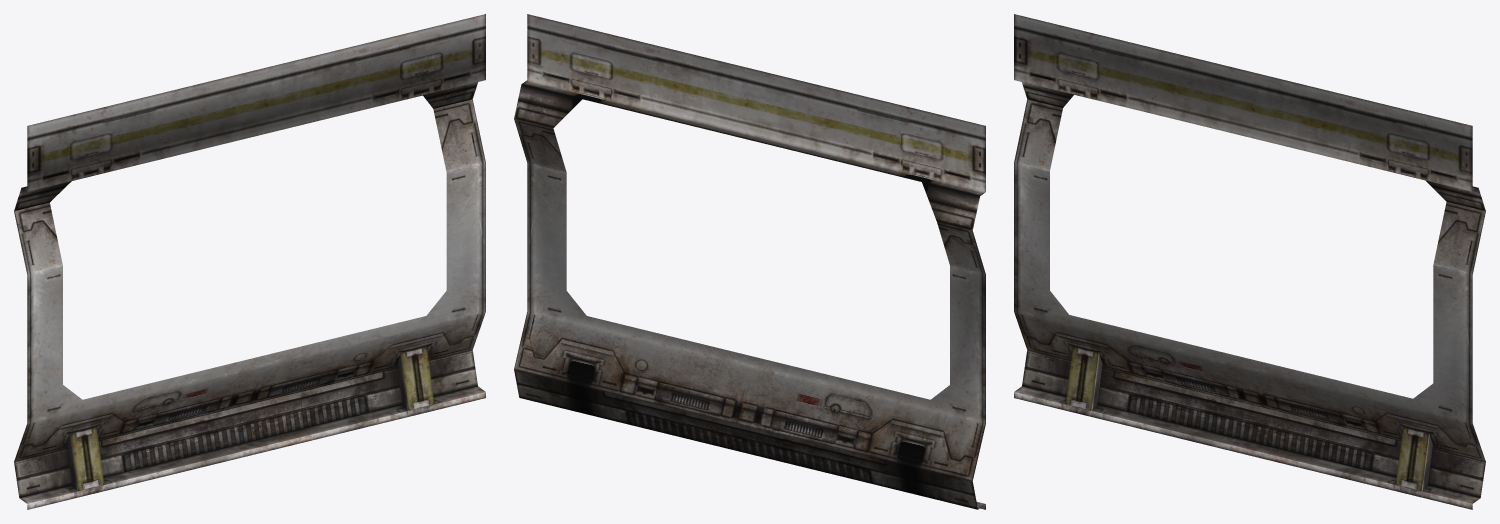
Rendered from theta_ground_window_large.dae.
The picture shows the model from 3 angles, left to right: view 1: azimuth 30°, elevation 25°; view 2: azimuth 150°, elevation 25°; view 3: azimuth 330°, elevation 25°; orthographic projection.
Visible parts, largest first — view 1: theta_ground_window_base; view 2: theta_ground_window_base; view 3: theta_ground_window_base.
Part boxes in pixels (x1=…): theta_ground_window_base: x1=14, y1=14, x2=485, y2=509; theta_ground_window_base: x1=514, y1=14, x2=985, y2=509; theta_ground_window_base: x1=1014, y1=14, x2=1485, y2=509.
Size of the model in its own units: 5 by 4 by 0.25.
